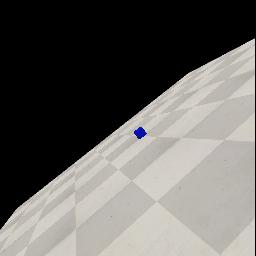box: (134, 127, 147, 139)
